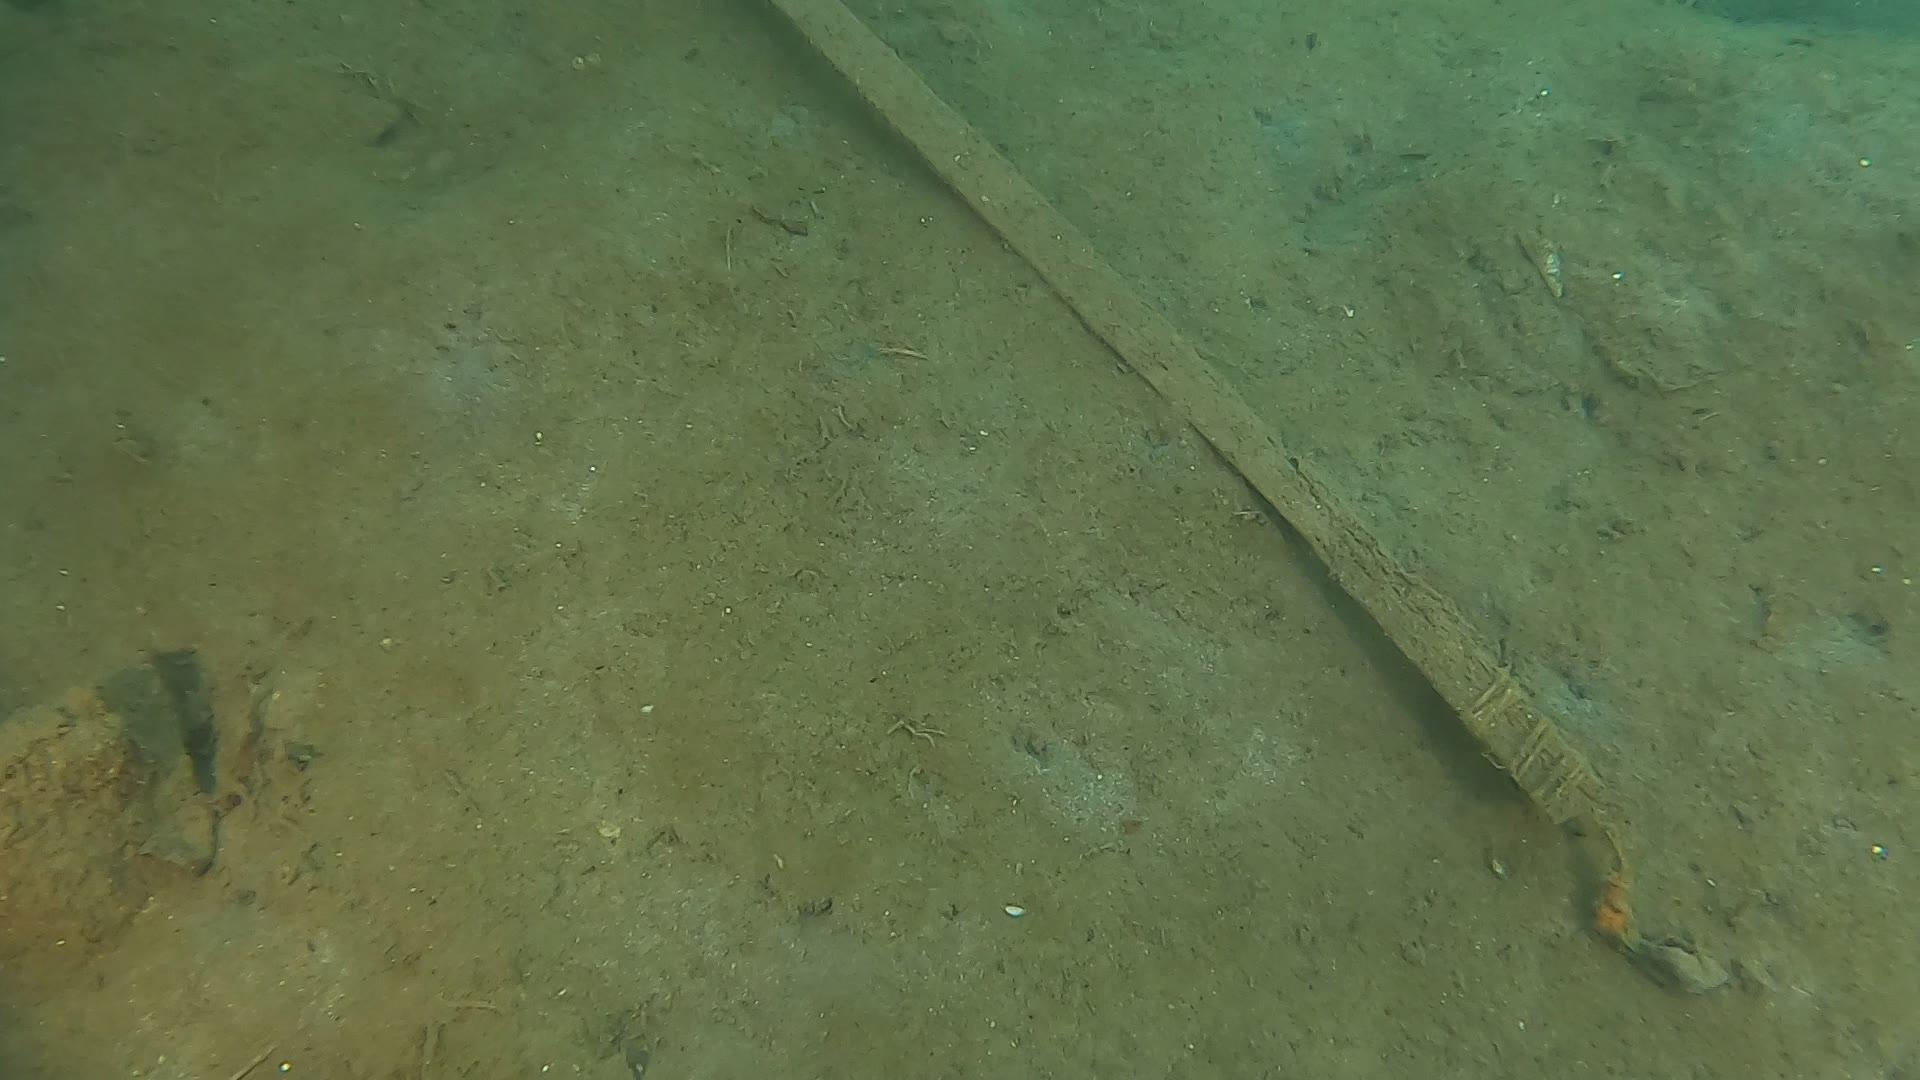wood: (764, 0, 1607, 825)
